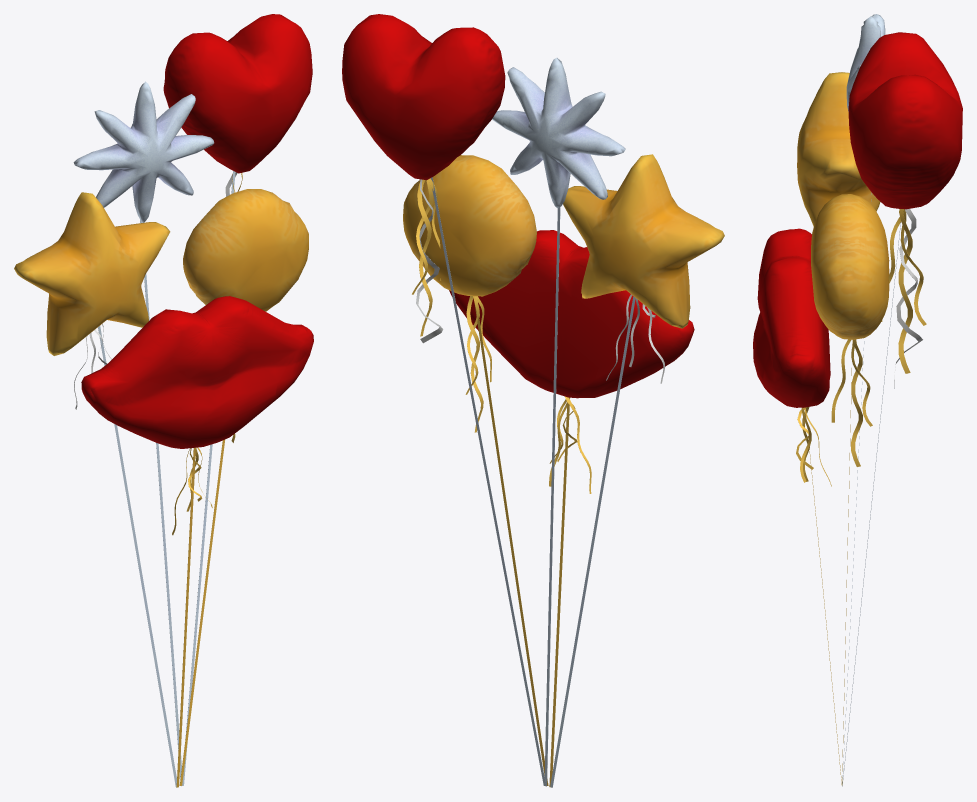
The model's file is PartyBalloons02_GR1.FBX.
3 views of the same model, side by side, from view 1: azimuth 30°, elevation 25°; view 2: azimuth 150°, elevation 25°; view 3: azimuth 270°, elevation 25° (orthographic). The views are drawn at different scales.
Visible parts, largest first — view 1: PartyBalloons02_GR1; view 2: PartyBalloons02_GR1; view 3: PartyBalloons02_GR1.
Boxes of the visible parts, x1=… form: PartyBalloons02_GR1: x1=14, y1=14, x2=313, y2=787; PartyBalloons02_GR1: x1=342, y1=14, x2=724, y2=787; PartyBalloons02_GR1: x1=753, y1=14, x2=962, y2=786.
Size of what is drawn, in the model's own units: 0.9226 by 2 by 0.4889.
